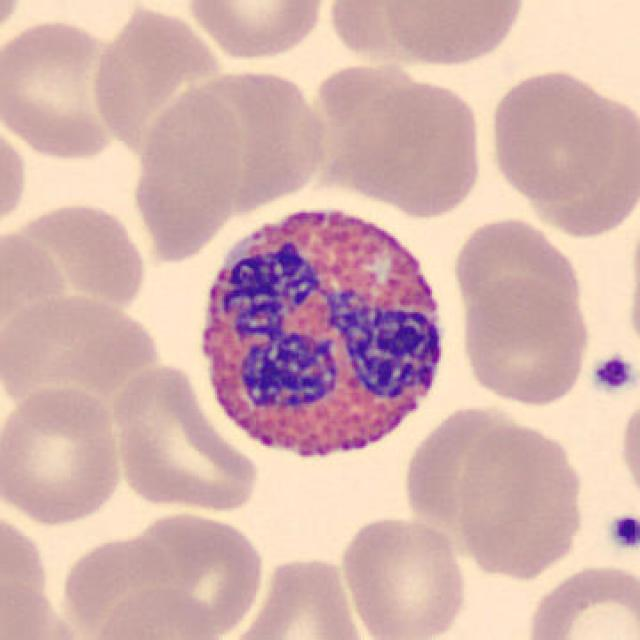Eosinophil: (188, 188, 458, 478)
Platelets: (586, 351, 636, 397), (604, 510, 640, 556)
RBC: (160, 66, 335, 215), (107, 358, 263, 516), (452, 418, 588, 582), (334, 74, 487, 219), (2, 289, 167, 423), (127, 82, 245, 264), (119, 504, 269, 640), (0, 12, 133, 163), (485, 66, 626, 206), (0, 383, 128, 529), (457, 275, 594, 407), (3, 194, 153, 314), (336, 513, 471, 640), (448, 214, 587, 332), (224, 552, 373, 640), (378, 0, 530, 69), (522, 560, 638, 640), (183, 0, 330, 63), (84, 582, 222, 640), (0, 573, 87, 640), (0, 116, 30, 236), (615, 390, 640, 511), (0, 0, 25, 44)
